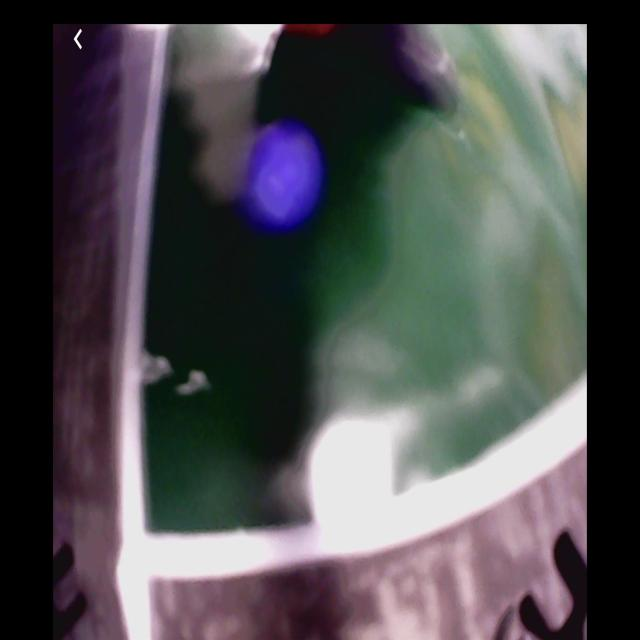ball: (244, 122, 323, 236)
